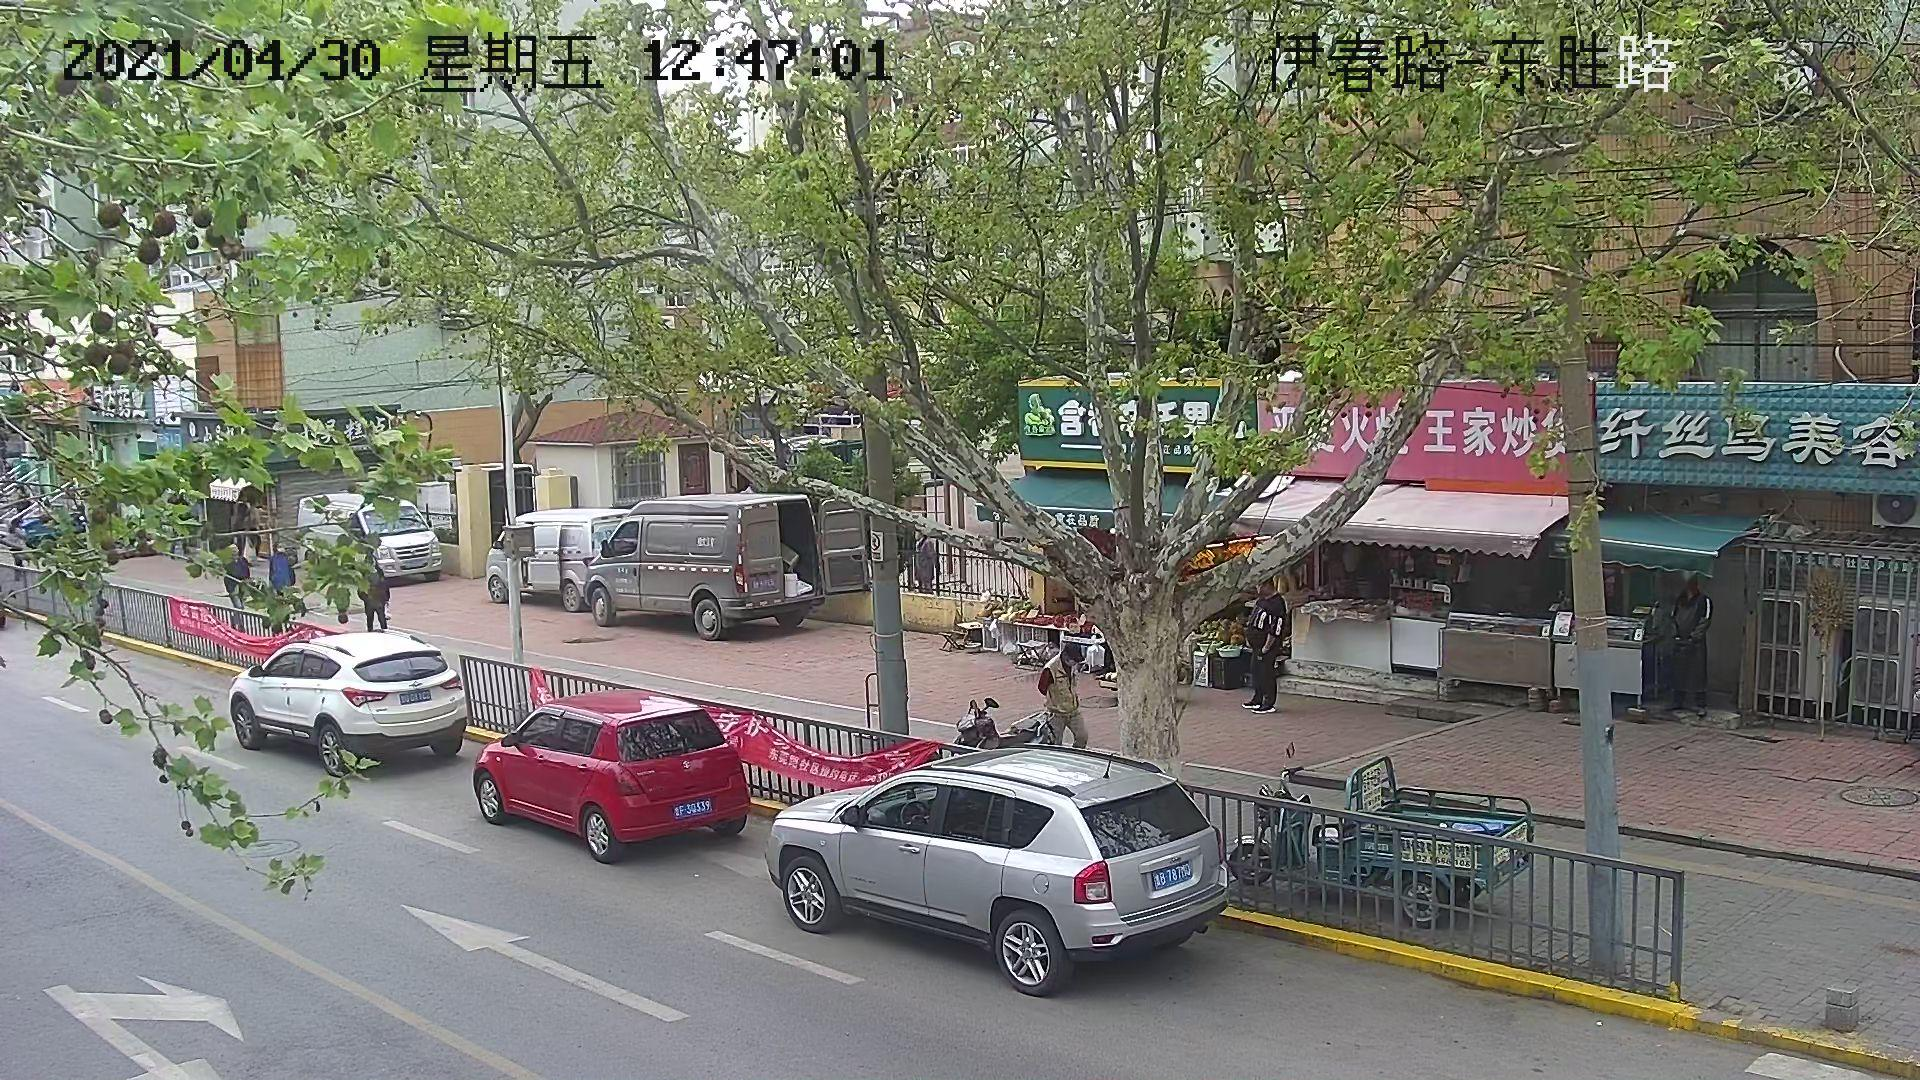chair: (1014, 637, 1047, 670), (938, 629, 964, 650)
